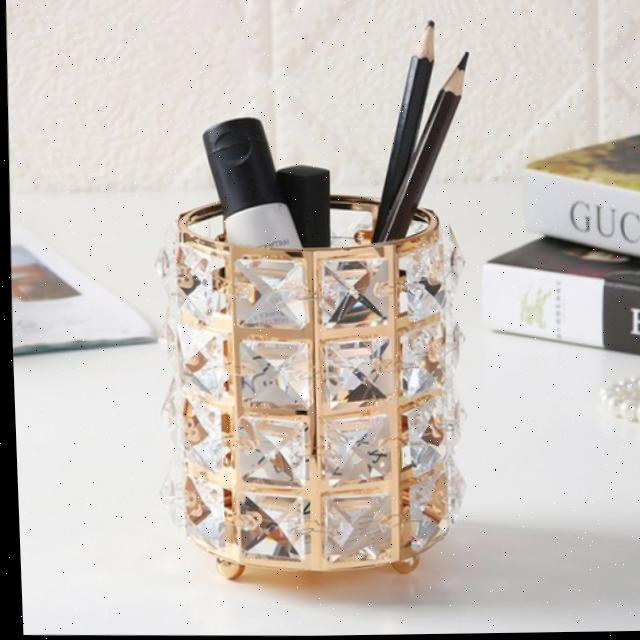pencil: (374, 45, 471, 250), (366, 12, 442, 249)
